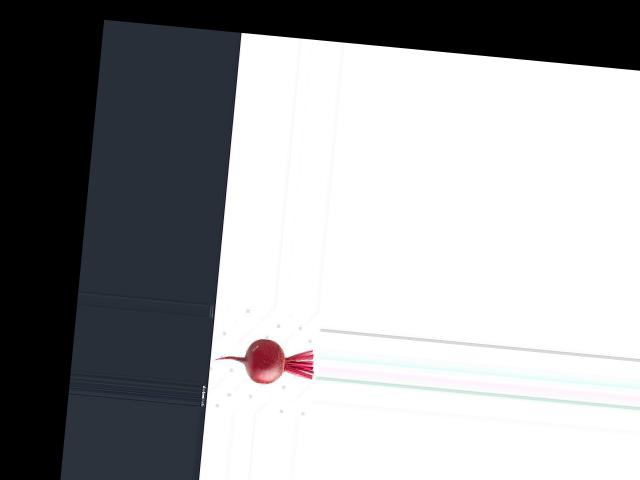beet: (211, 334, 316, 387)
